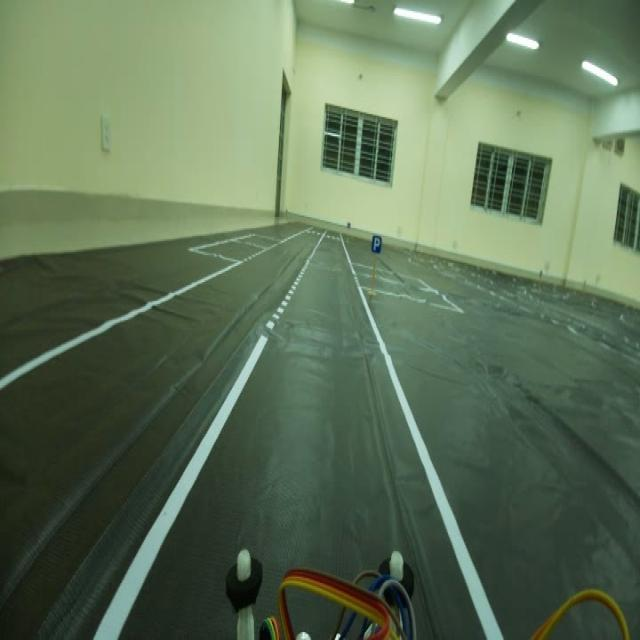parking: (367, 226, 385, 259)
